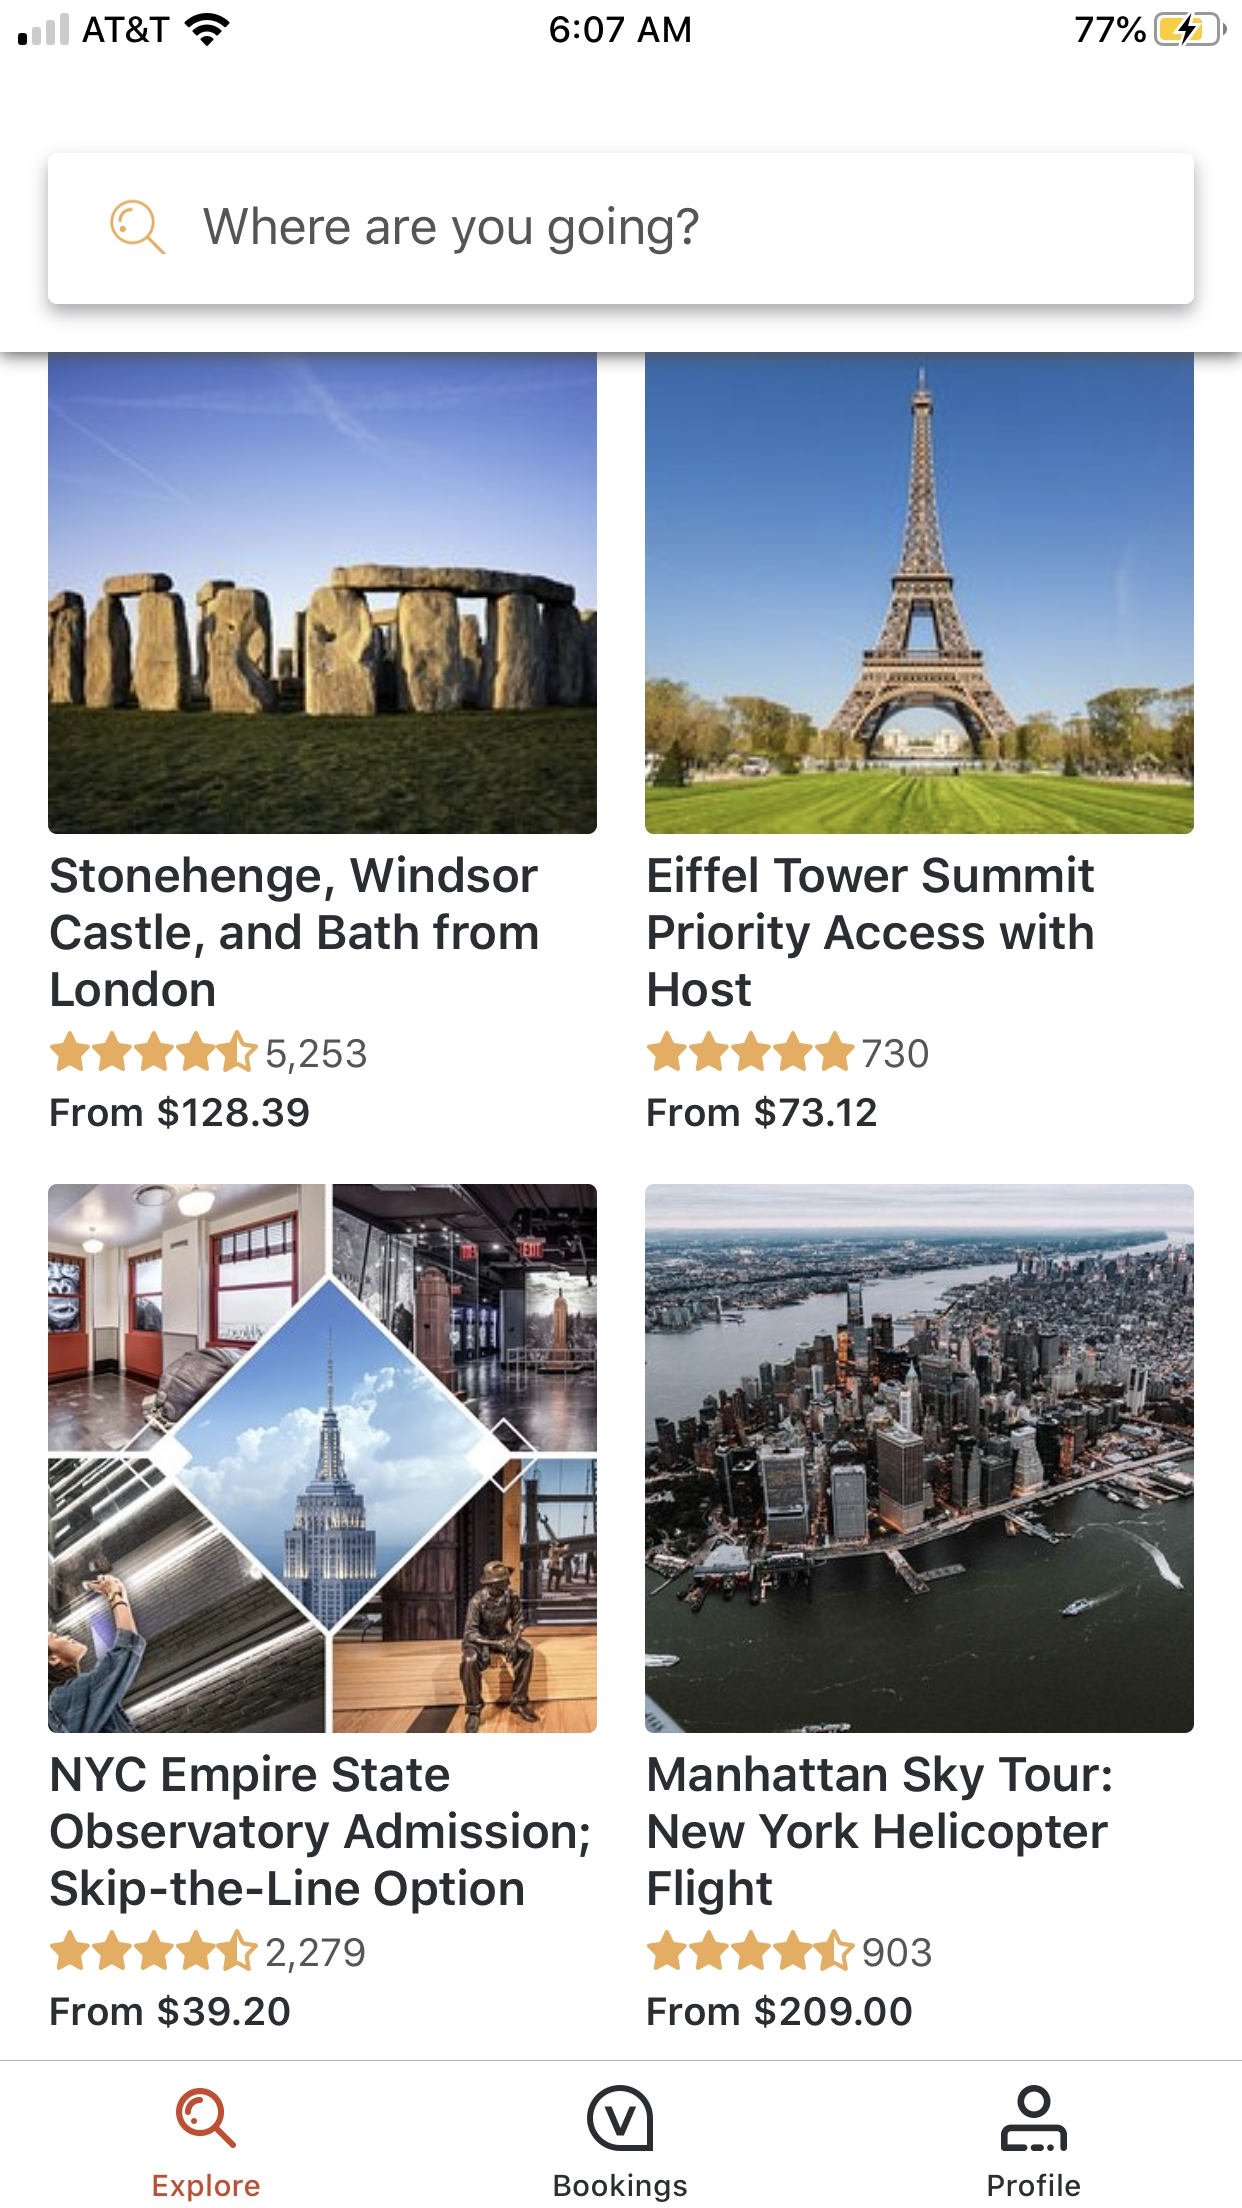EditText: (49, 155, 1193, 305)
Icon: (648, 1929, 855, 1971), (52, 1929, 259, 1971), (52, 1031, 259, 1074), (648, 1031, 855, 1072), (1001, 2084, 1068, 2150), (177, 2088, 237, 2147), (111, 200, 167, 255)
Image: (646, 1184, 1195, 1733), (49, 1184, 597, 1733), (645, 353, 1193, 836), (49, 353, 597, 836), (588, 2085, 654, 2150)
Text: (205, 206, 701, 256), (52, 1812, 588, 1858), (52, 855, 538, 902), (649, 1755, 1112, 1802), (649, 1811, 1109, 1858), (52, 1868, 525, 1914), (52, 914, 538, 958), (649, 911, 1093, 958), (53, 1755, 450, 1800), (649, 855, 1093, 895), (649, 1994, 911, 2028), (52, 1096, 309, 1130), (648, 1095, 877, 1130), (52, 1996, 290, 2029), (53, 971, 215, 1007), (649, 1868, 772, 1915), (555, 2175, 688, 2203), (649, 972, 752, 1007), (267, 1938, 365, 1973), (268, 1039, 367, 1074), (155, 2173, 261, 2200), (989, 2173, 1080, 2197), (863, 1037, 930, 1069), (863, 1938, 933, 1967)
UpperTaskBar: (2, 2, 1240, 49)
